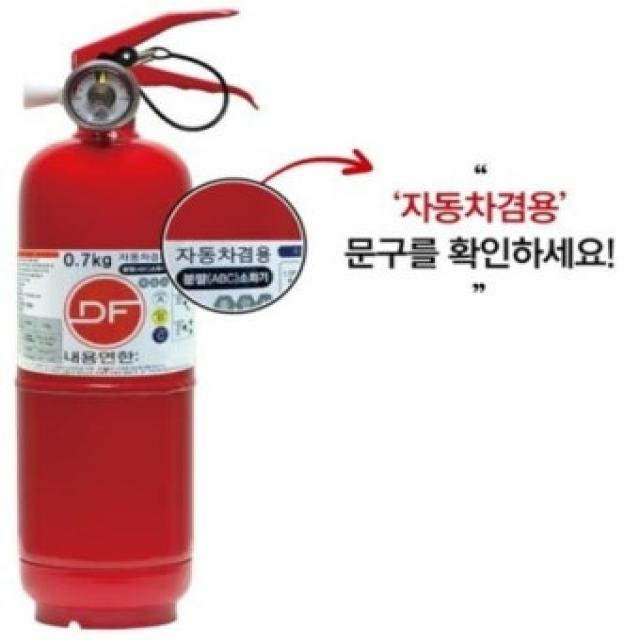pressure gauge: (64, 61, 136, 132)
